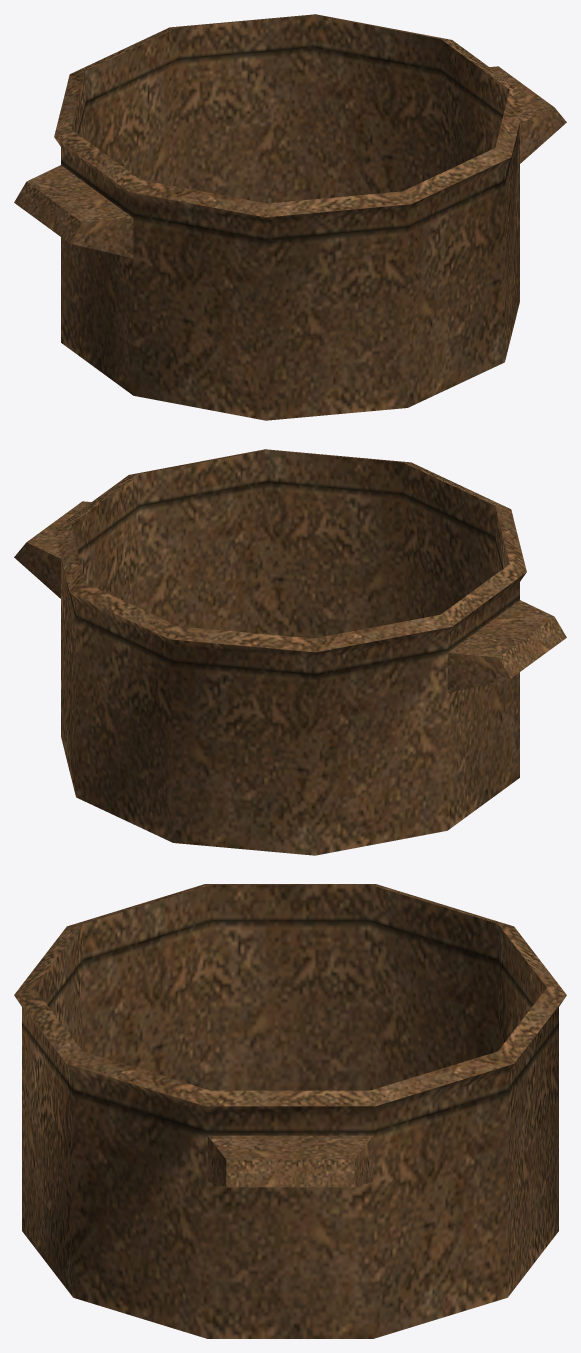
File: edb_con_tato_pot_empty_s01_l0.fbx
3 views of the same model, one above another, from view 1: azimuth 30°, elevation 25°; view 2: azimuth 150°, elevation 25°; view 3: azimuth 270°, elevation 25° (orthographic). The views are drawn at different scales.
Parts seen in each view (by area): view 1: mesh_node; view 2: mesh_node; view 3: mesh_node.
Part boxes in pixels (<box>): mesh_node: <box>14,14,566,420</box>; mesh_node: <box>14,449,566,855</box>; mesh_node: <box>14,884,566,1338</box>.
Bounding box in the file's own units: 0.368 × 0.1505 × 0.31.
Materials: 1 (1 with a texture image).
